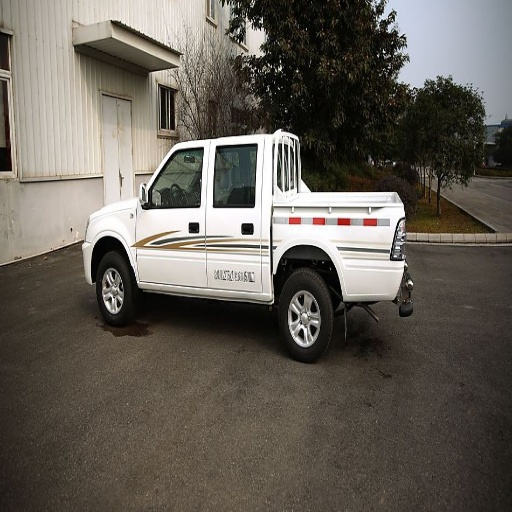back_left_door: (206, 145, 261, 287)
trunk: (251, 206, 399, 303)
